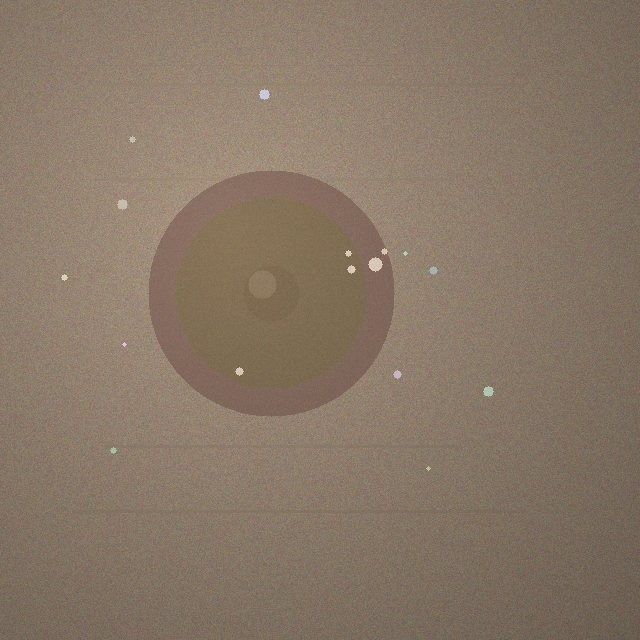overburn: (148, 170, 394, 416)
